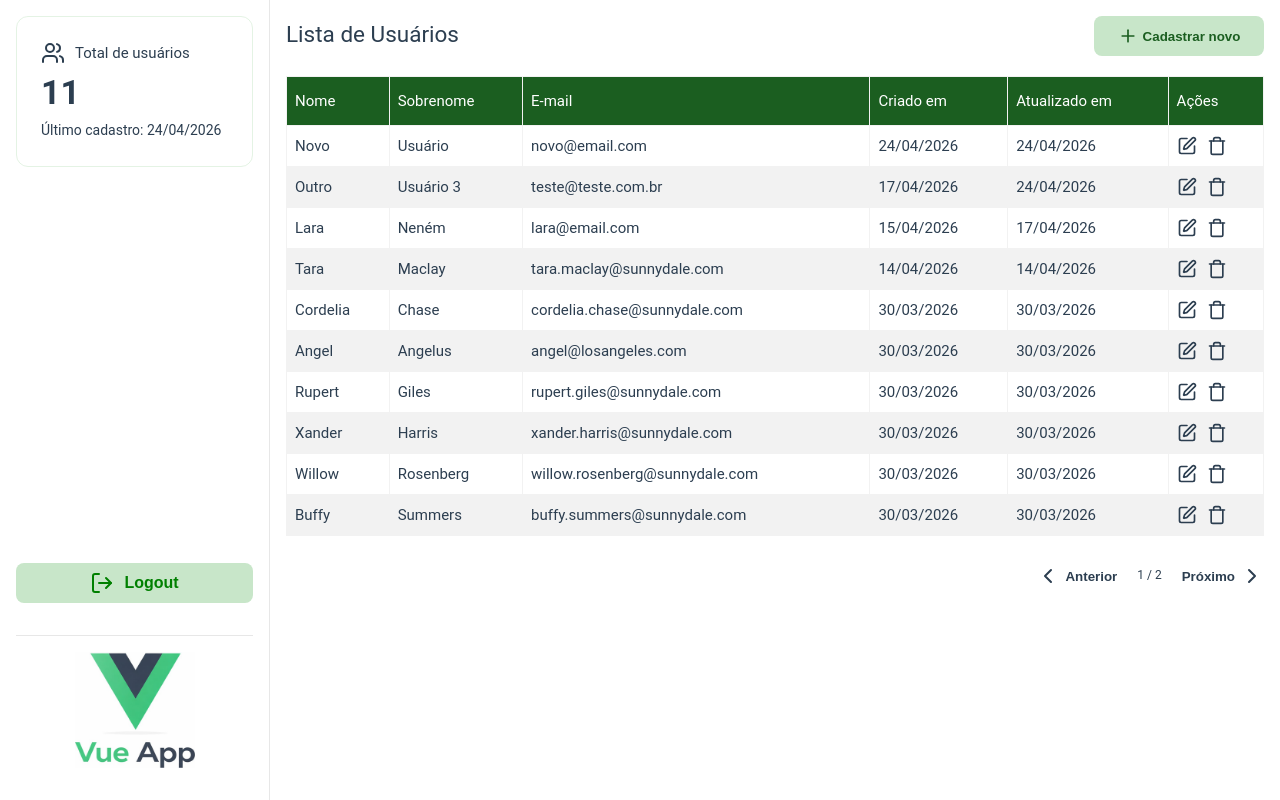
Scenario: Users sync with sidebar › Should update sidebar count after creating user
Expected: the text with test id "sidebar-count" reads "11", [41,72,80,112]
Click the button with test id "create-user" at (1179, 36), box [1094,16,1264,56]
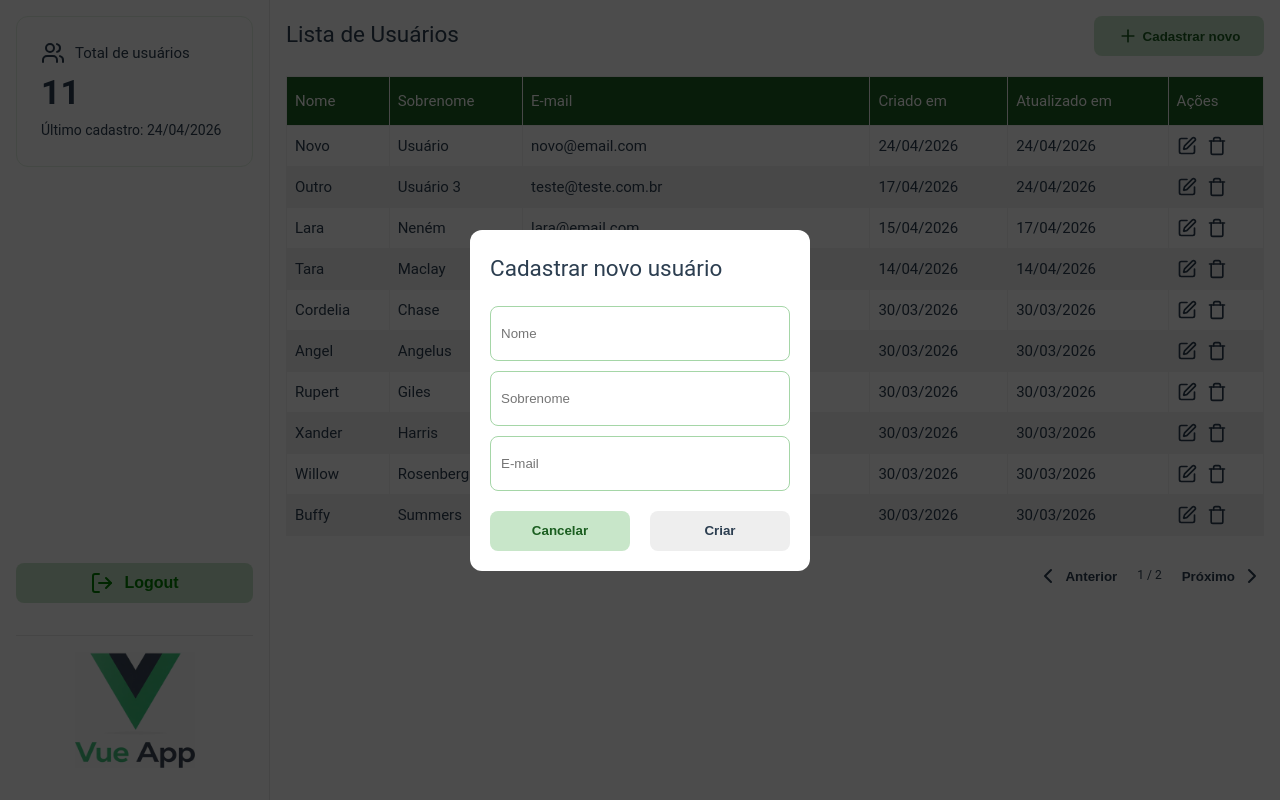
Type "New" into the field with test id "input-first-name" at (640, 334), box [490,306,790,361]
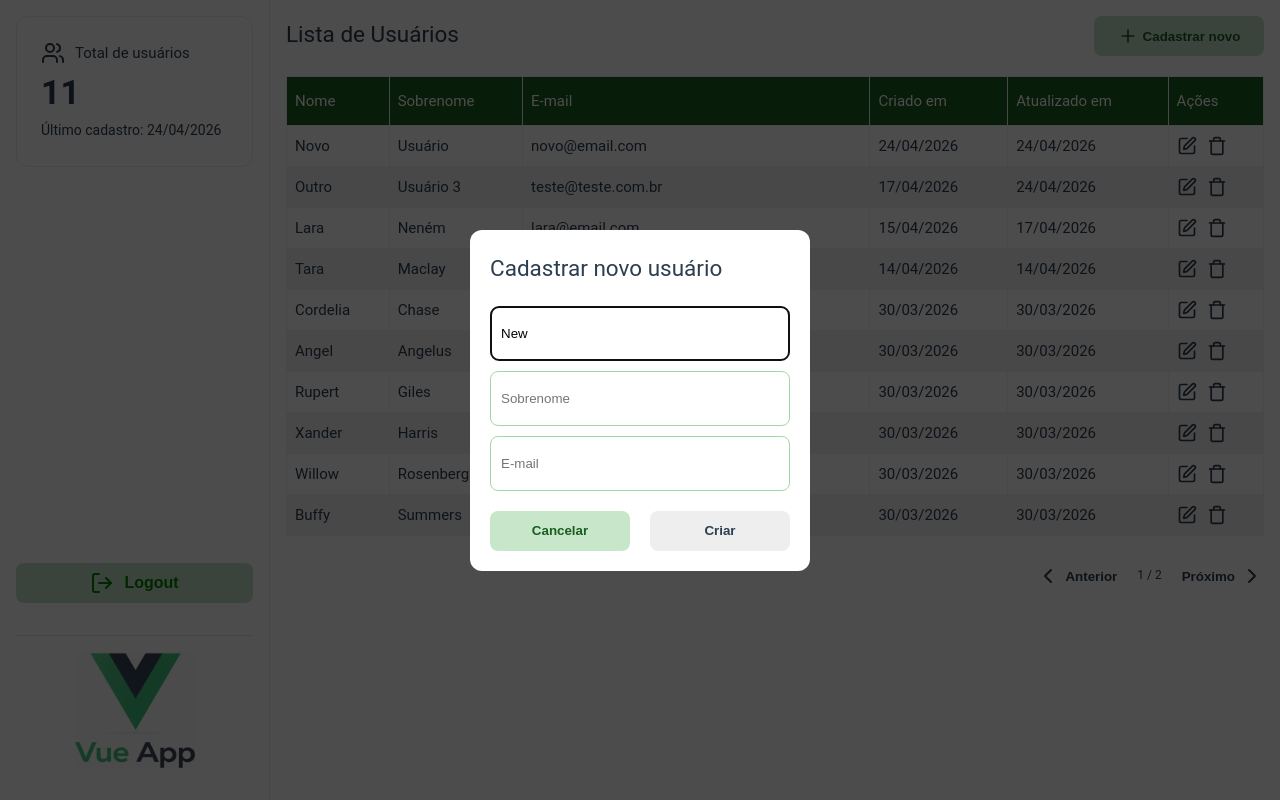
Type "User" into the field with test id "input-last-name" at (640, 399), box [490,371,790,426]
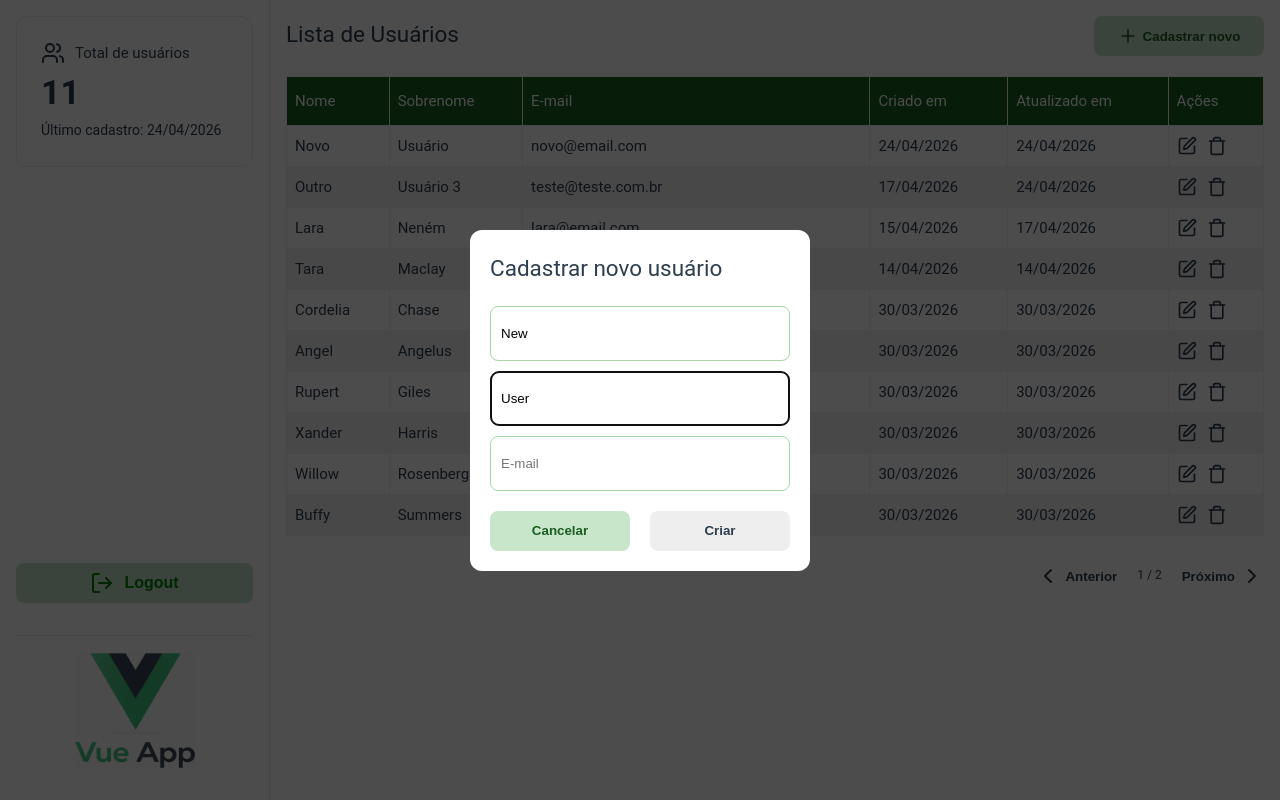
Type "email@email.com" into the field with test id "input-email" at (640, 464), box [490,436,790,491]
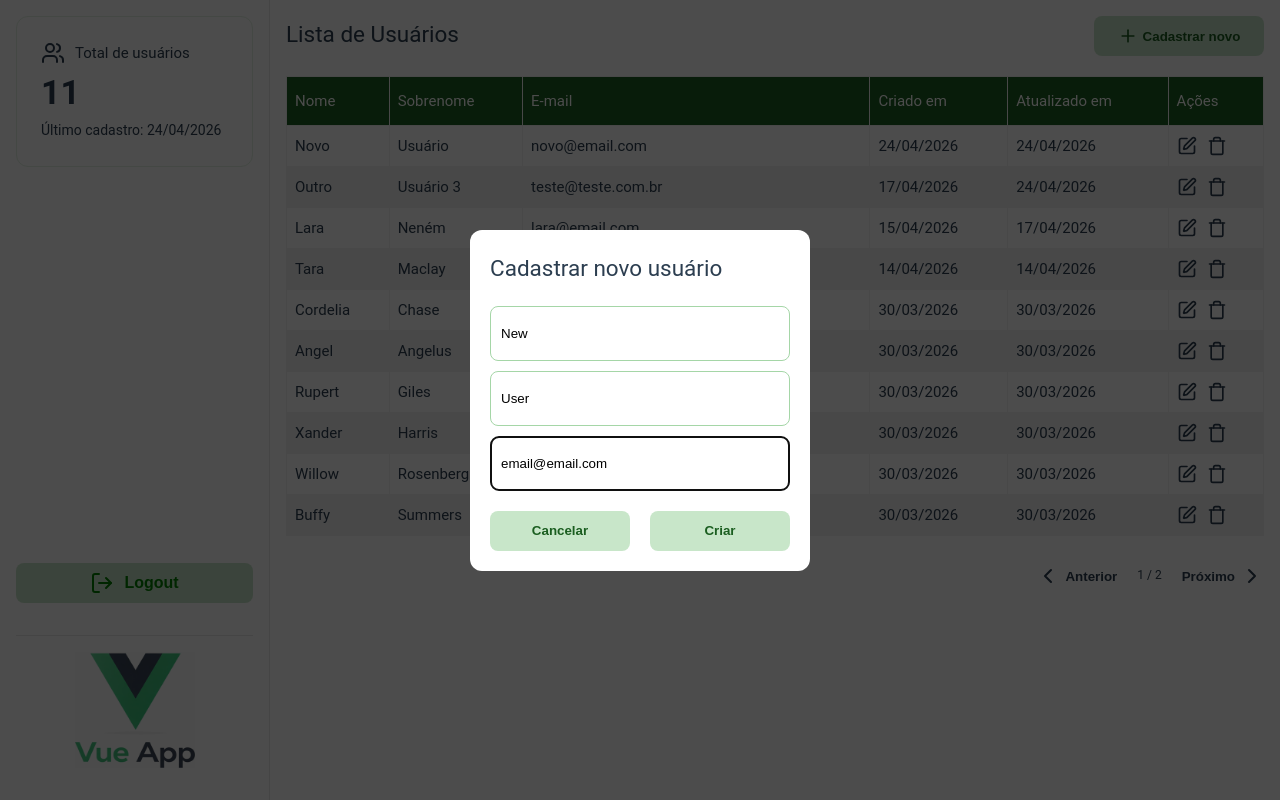
Click the button "Criar" at (720, 531), box [650,511,790,551]
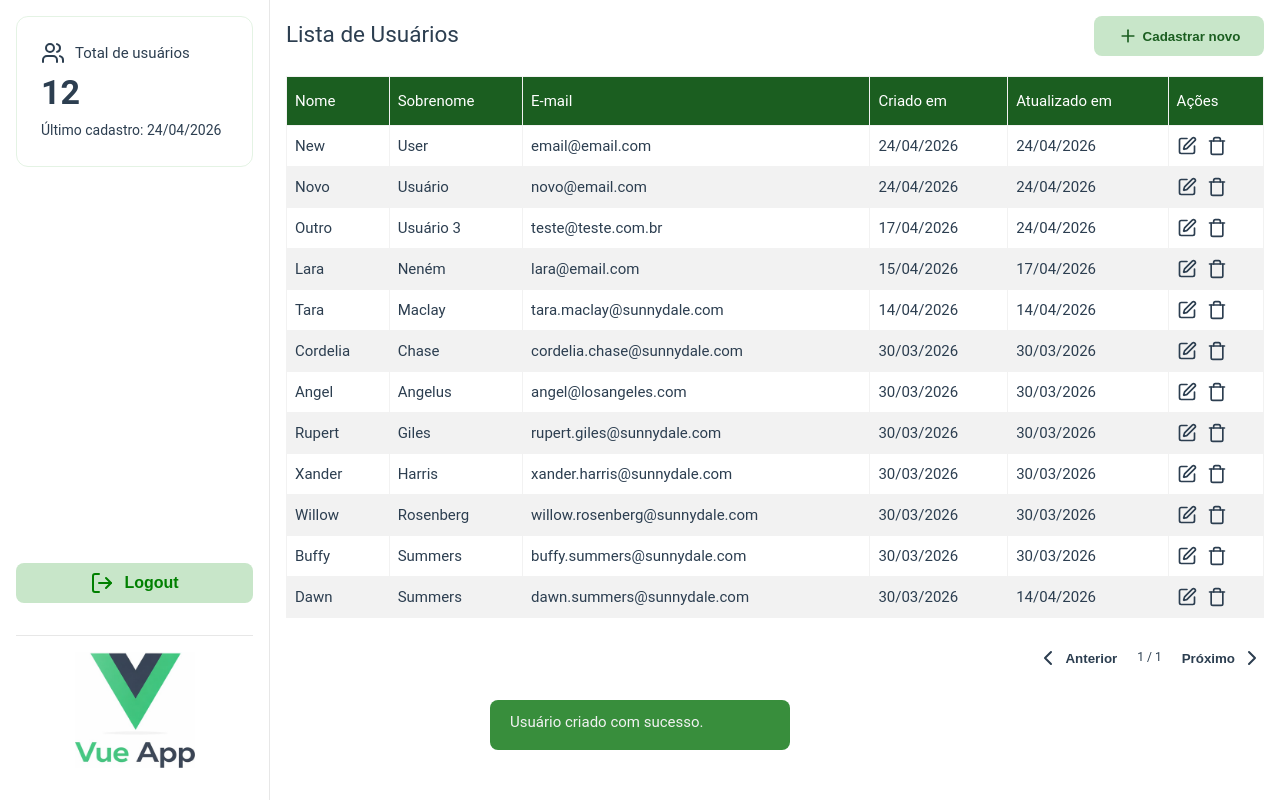
Expected: the text with test id "sidebar-count" reads "12", [41,72,80,112]
